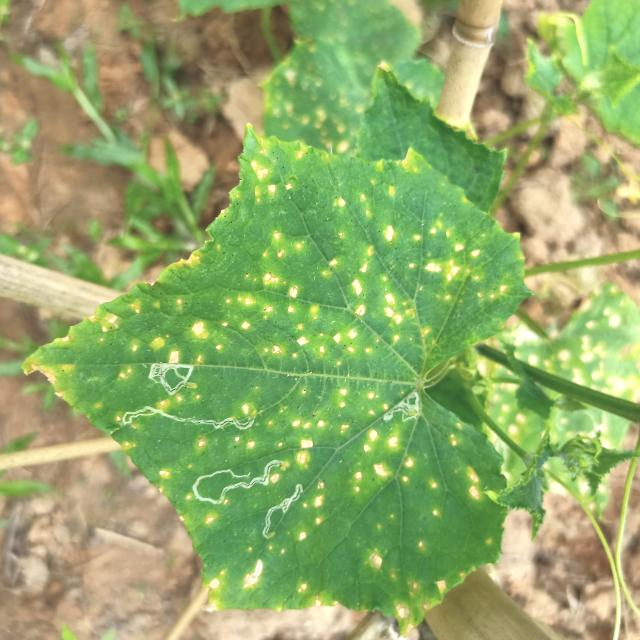disease_cucumber: (57, 162, 516, 370), (113, 362, 474, 606)
